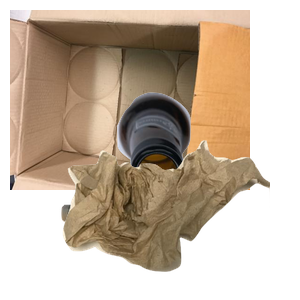cardboard: (10, 10, 250, 190)
glass: (115, 90, 300, 270)
plastic: (59, 193, 241, 300)
trash: (60, 138, 300, 300)
